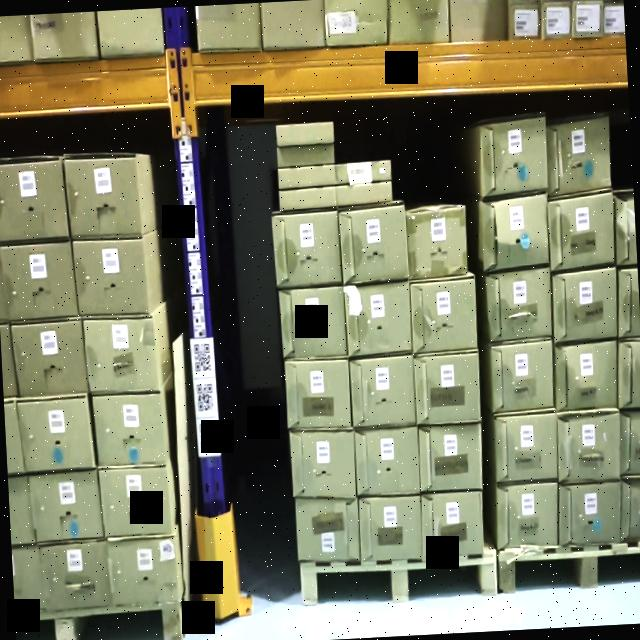box: (274, 213, 342, 284), (412, 284, 477, 354), (285, 361, 350, 430), (348, 287, 412, 356), (342, 210, 406, 278), (293, 432, 358, 498), (352, 360, 417, 426), (280, 291, 346, 354), (357, 431, 419, 496), (295, 499, 358, 562), (418, 358, 480, 421), (420, 426, 482, 488), (408, 211, 468, 272), (360, 502, 421, 560), (424, 498, 482, 556), (276, 166, 338, 187), (339, 162, 393, 185), (276, 146, 333, 166), (282, 190, 336, 211), (276, 125, 335, 144), (340, 185, 392, 206)
